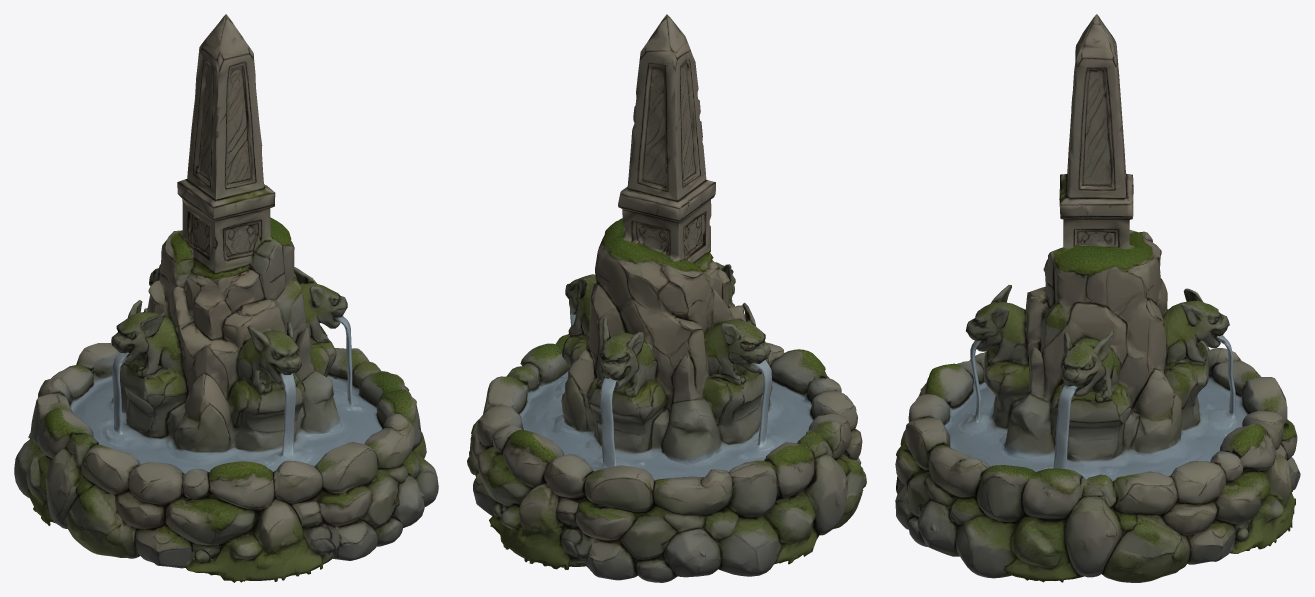
Rendered from Fountain.glb.
The picture shows the model from 3 angles, left to right: view 1: azimuth 30°, elevation 25°; view 2: azimuth 150°, elevation 25°; view 3: azimuth 270°, elevation 25°; orthographic projection.
Visible parts, largest first — view 1: tripo_node_5abec5db-9b78-4444-a5d7-a3a56faadf78; view 2: tripo_node_5abec5db-9b78-4444-a5d7-a3a56faadf78; view 3: tripo_node_5abec5db-9b78-4444-a5d7-a3a56faadf78.
Boxes of the visible parts, x1,y1,x2,y2 form: tripo_node_5abec5db-9b78-4444-a5d7-a3a56faadf78: (14,14,438,582); tripo_node_5abec5db-9b78-4444-a5d7-a3a56faadf78: (467,14,866,582); tripo_node_5abec5db-9b78-4444-a5d7-a3a56faadf78: (895,14,1300,582).
Bounding box in the file's own units: 0.7457 × 1 × 0.7403.
Materials: 1 (1 with a texture image).
